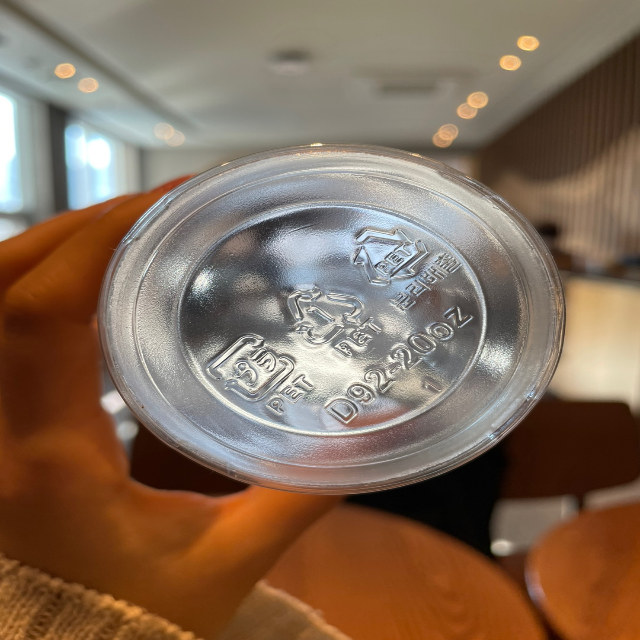pet: (350, 217, 462, 315), (199, 328, 318, 419), (279, 276, 384, 357)
